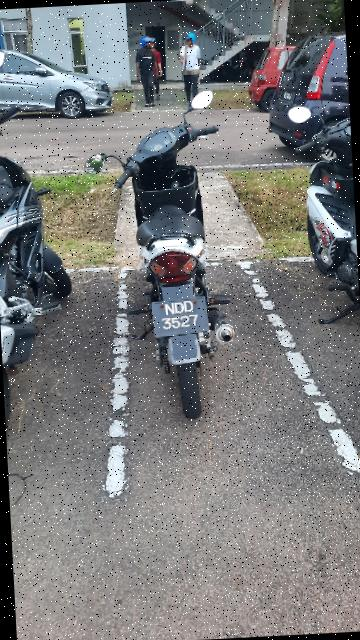License_Plate: (151, 296, 207, 334)
car: (1, 28, 120, 127), (270, 23, 351, 143)
motorcycle: (83, 81, 261, 433), (1, 99, 87, 413), (271, 96, 360, 335)
